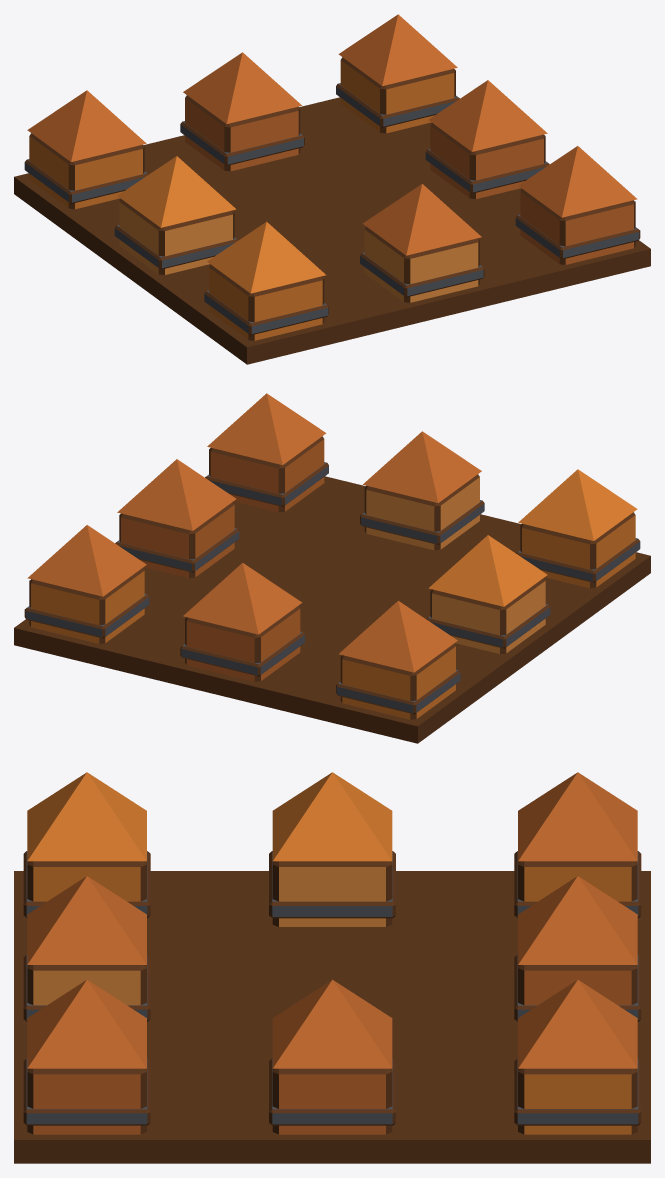
The model's file is block_wood_cap_keep.glb.
3 views of the same model, one above another, from view 1: azimuth 30°, elevation 25°; view 2: azimuth 150°, elevation 25°; view 3: azimuth 270°, elevation 25° (orthographic). The views are drawn at different scales.
Parts seen in each view (by area): view 1: WoodCapKeep; view 2: WoodCapKeep; view 3: WoodCapKeep.
Boxes of the visible parts, bbox=[...] form: WoodCapKeep: bbox=[14, 14, 650, 364]; WoodCapKeep: bbox=[14, 393, 650, 743]; WoodCapKeep: bbox=[14, 772, 650, 1163].
Bounding box in the file's own units: 1.22 × 0.324 × 1.22.
